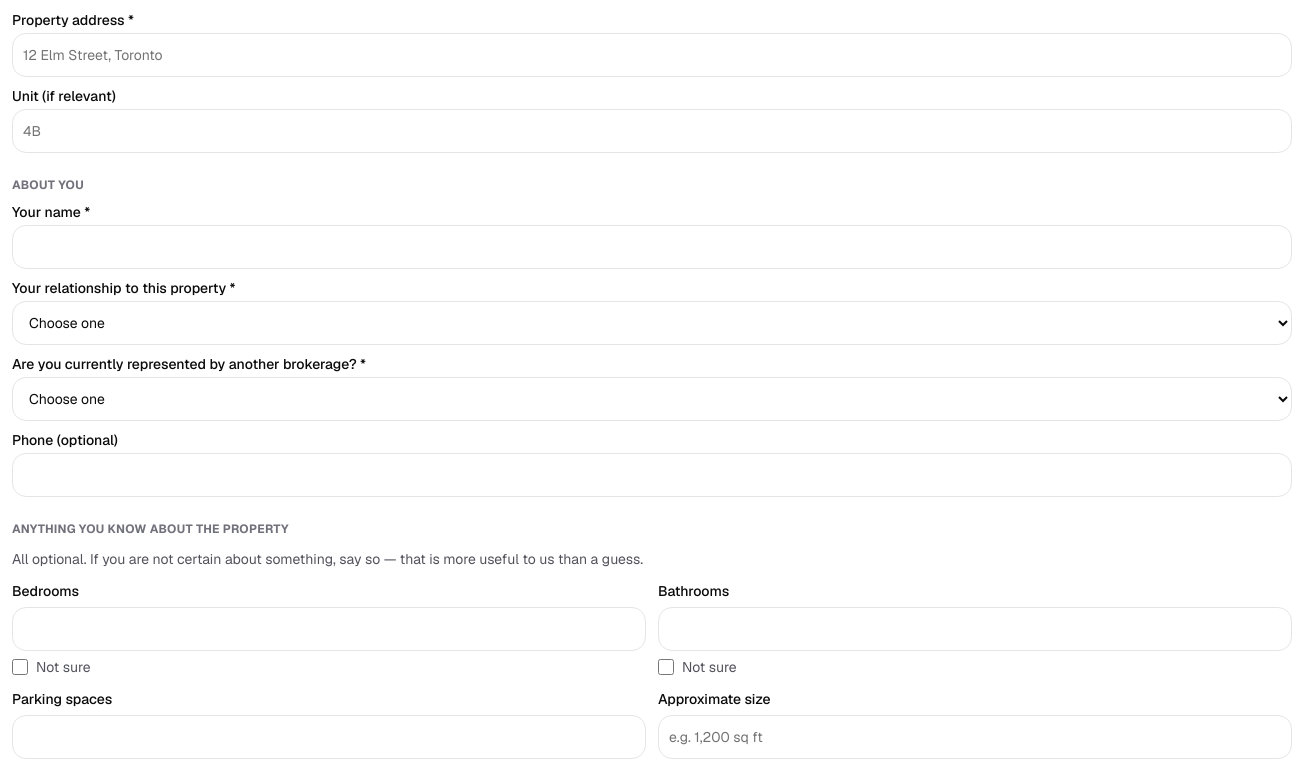
Test: incomplete required fields do not advance
Step 1. Type "12 Elm Street" into the field labelled "Property address *" → [652, 55], box [12, 33, 1292, 77]
(page scrolled)
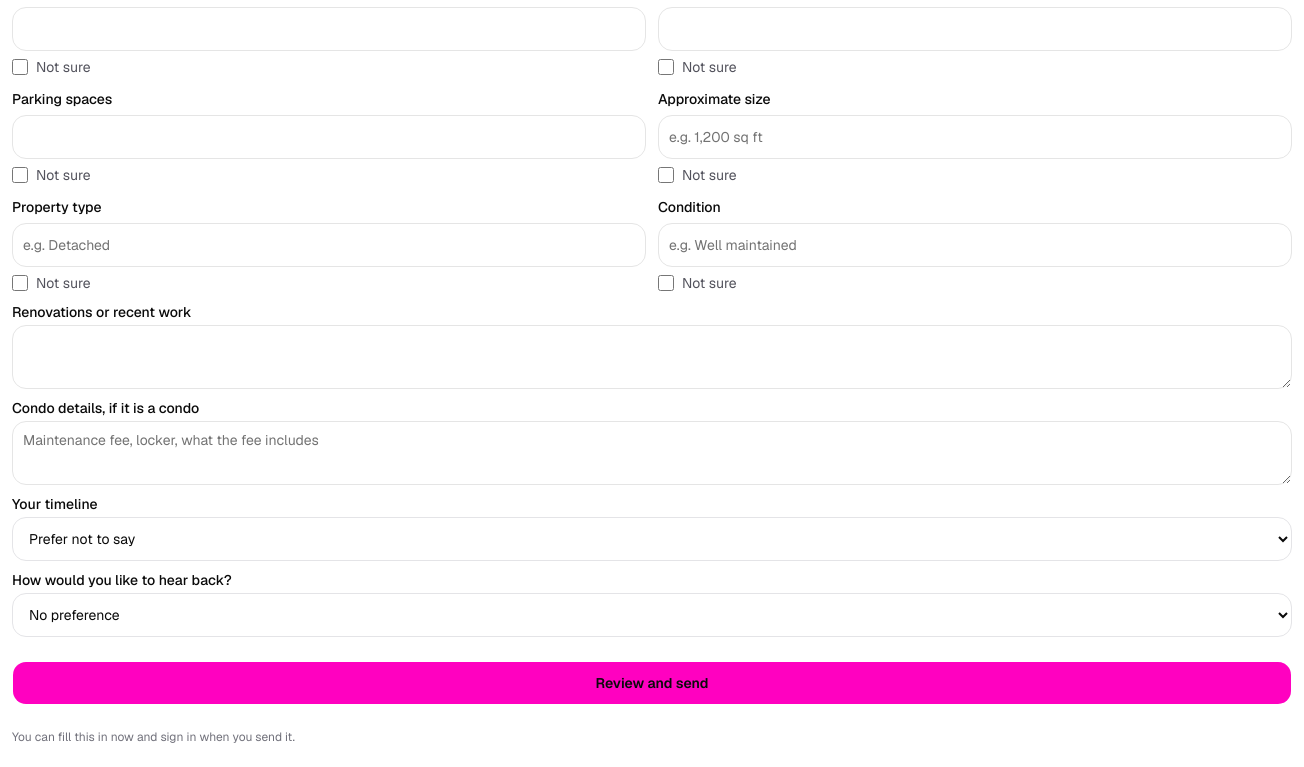
Step 2. Click the button "Review and send" → [652, 683], box [12, 661, 1292, 705]
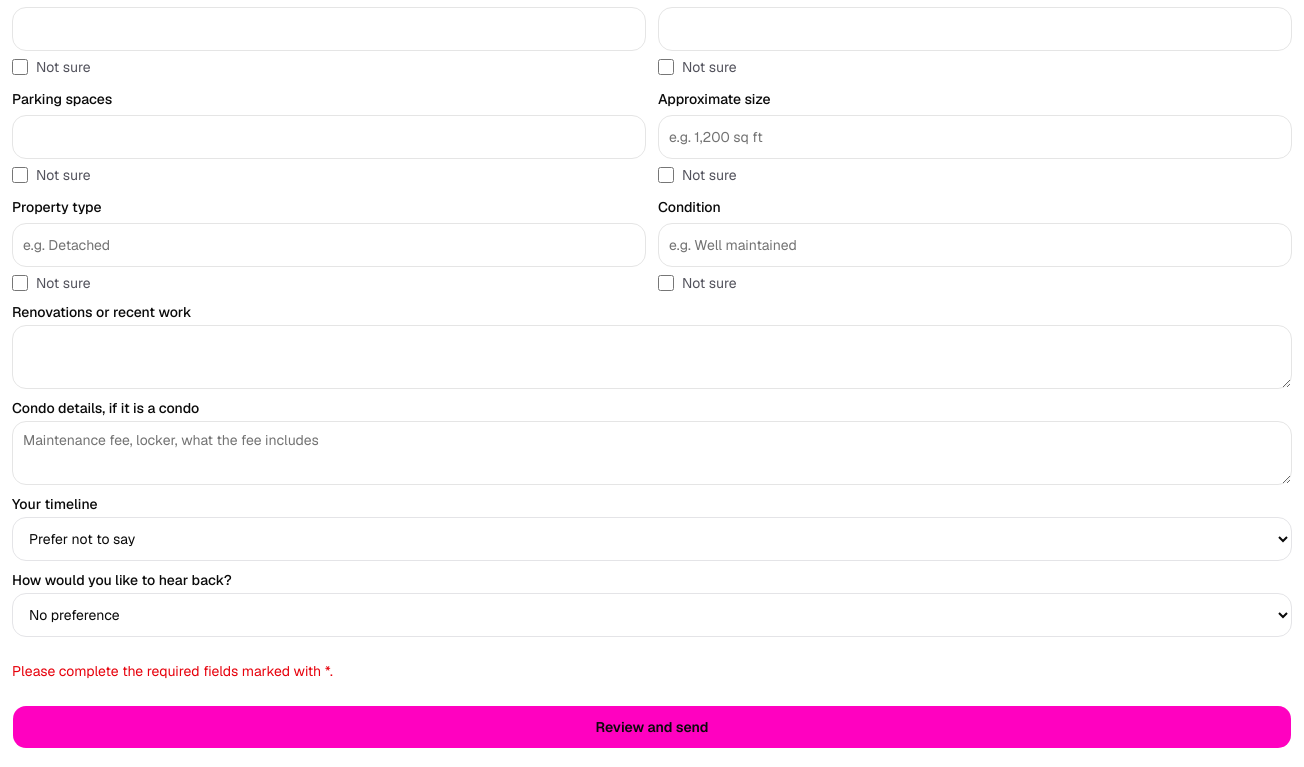
Now the message shows "required fields", box [12, 662, 333, 680]
